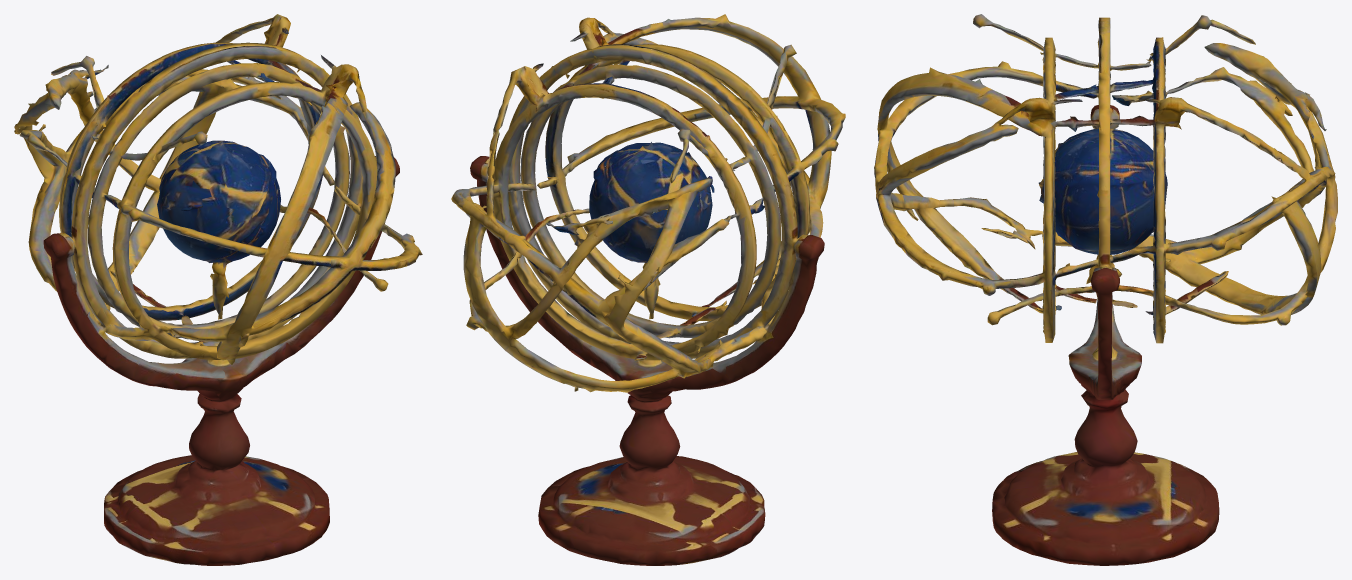
Rendered from armillary.glb.
3 renders of one model, left to right at view 1: azimuth 30°, elevation 25°; view 2: azimuth 150°, elevation 25°; view 3: azimuth 270°, elevation 25°, orthographic. The views are drawn at different scales.
Size of the model in its own units: 0.7707 by 0.9998 by 0.868.
1 material, 1 textured.
